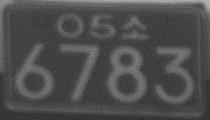0: (54, 10, 84, 39)
3: (153, 45, 195, 105)
5: (87, 13, 116, 40)
6: (15, 43, 54, 101)
7: (58, 43, 99, 103)
8: (105, 44, 148, 103)
소: (120, 13, 148, 40)
